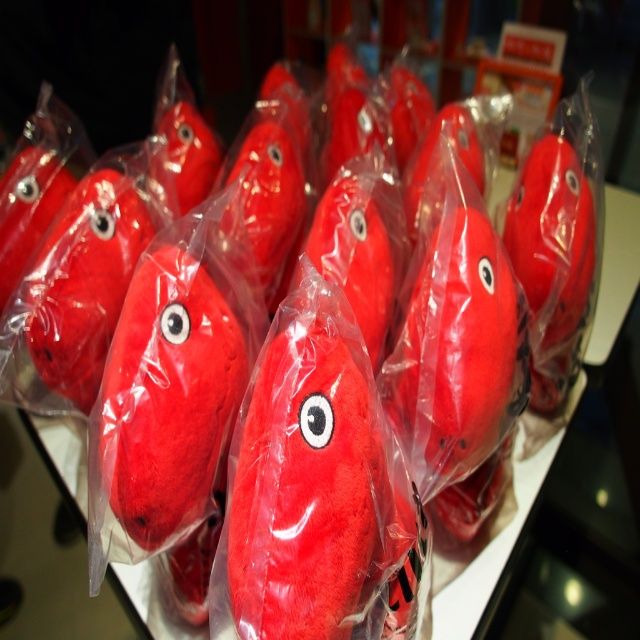Fish: (0, 38, 598, 640)
